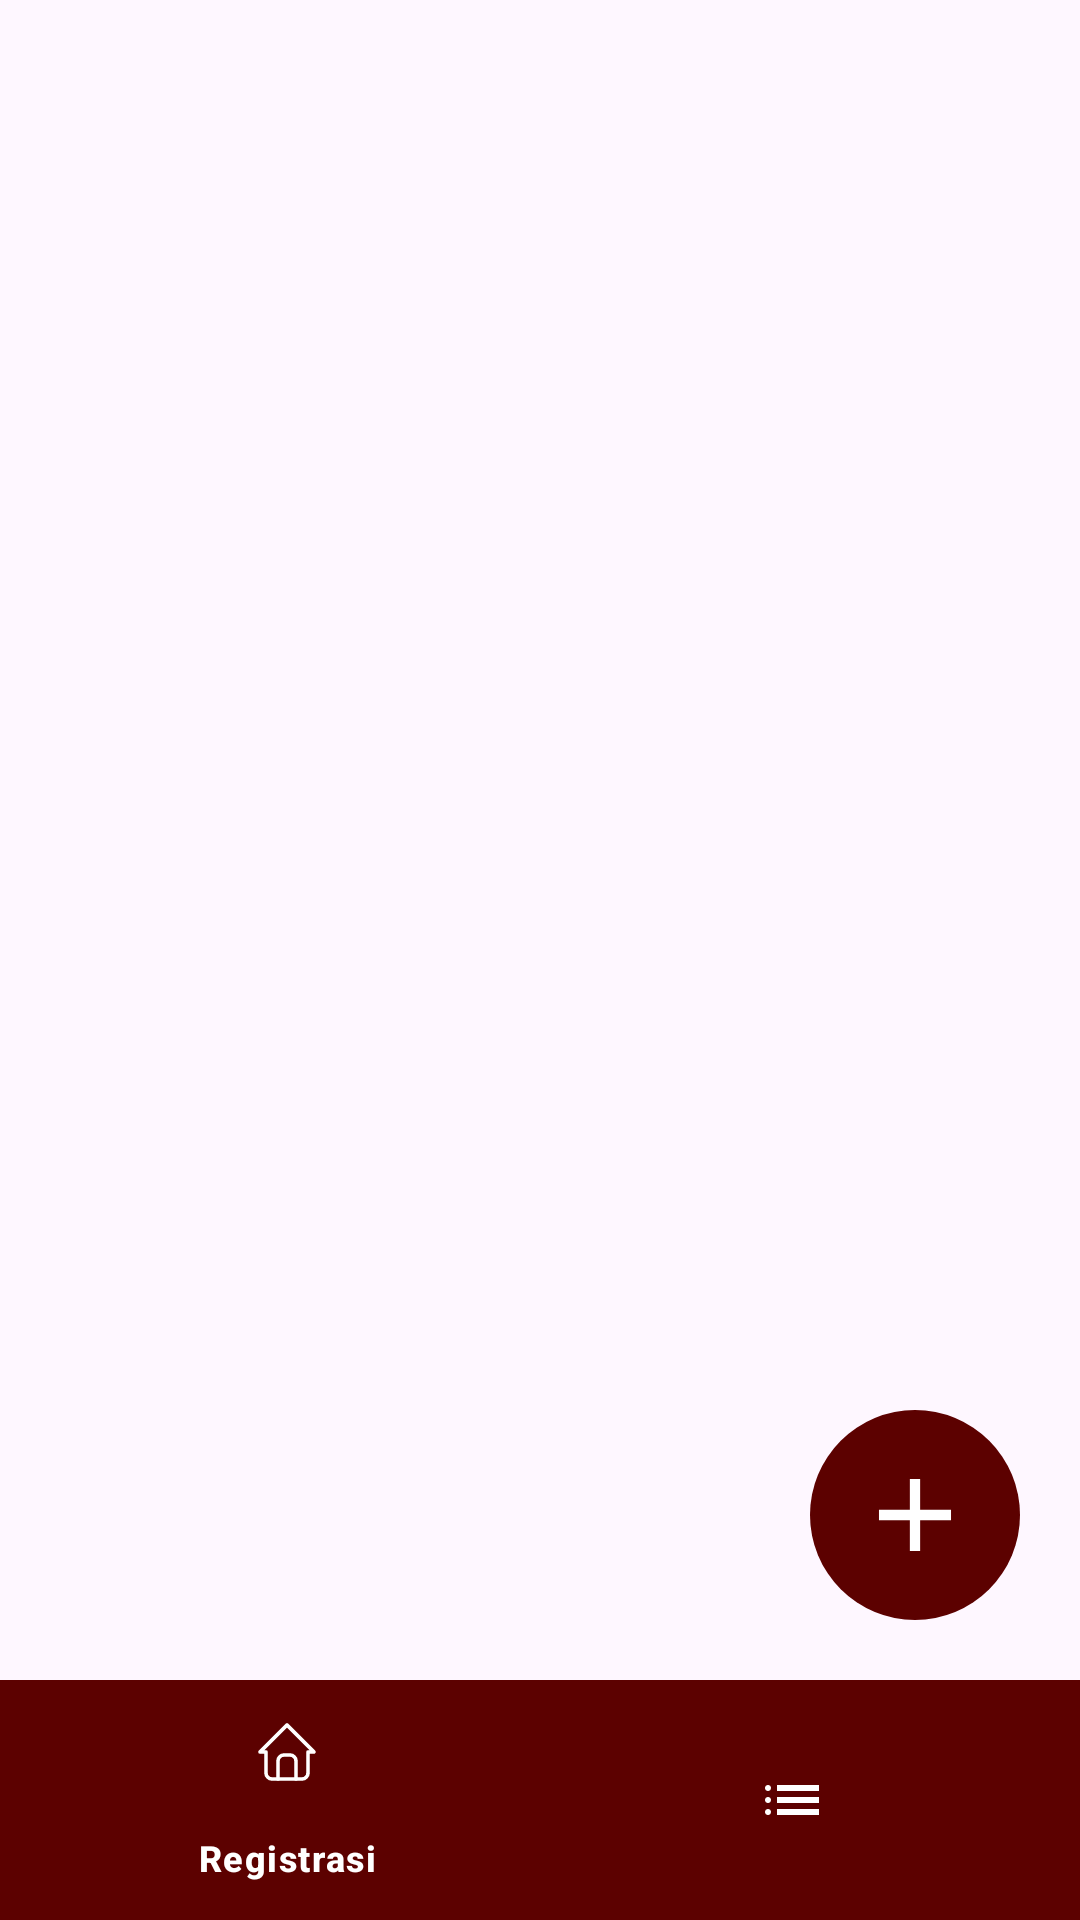

Icons on this 1080w x 1920h Android screen, each with the point to tap as (x,y):
add: (915,1515)
